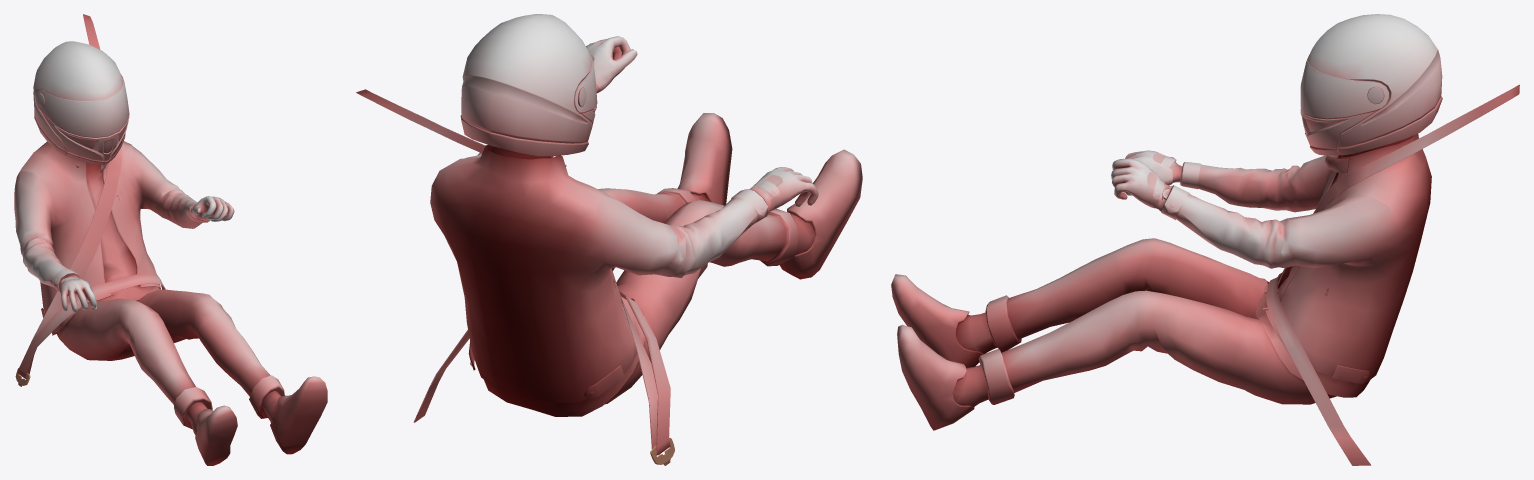
The model's file is Driver.fbx.
3 views of the same model, side by side, from view 1: azimuth 30°, elevation 25°; view 2: azimuth 150°, elevation 25°; view 3: azimuth 270°, elevation 25° (orthographic). The views are drawn at different scales.
Visible parts, largest first — view 1: DriverMaleGeneric_Geo; view 2: DriverMaleGeneric_Geo; view 3: DriverMaleGeneric_Geo.
Part boxes in pixels (x1,y1,x2,y2): DriverMaleGeneric_Geo: (14, 14, 327, 465); DriverMaleGeneric_Geo: (356, 14, 862, 465); DriverMaleGeneric_Geo: (891, 14, 1519, 465).
Bounding box in the file's own units: 0.6683 × 1.02 × 1.45.
